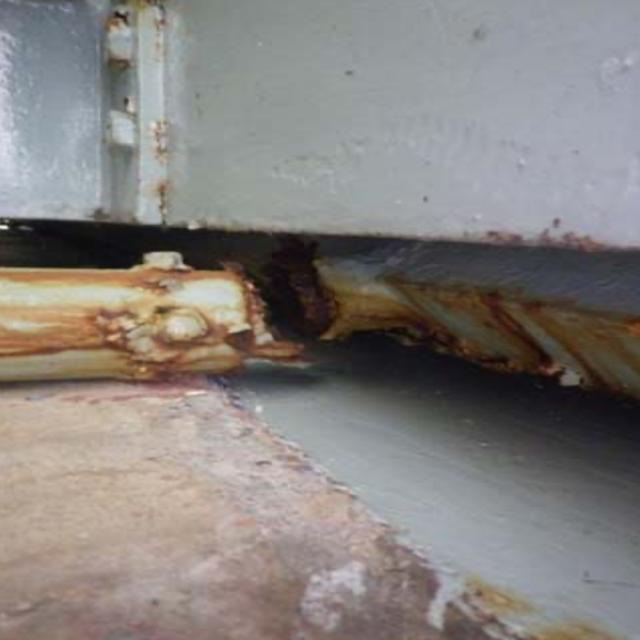corrosion: (16, 229, 621, 414), (88, 8, 172, 93)
